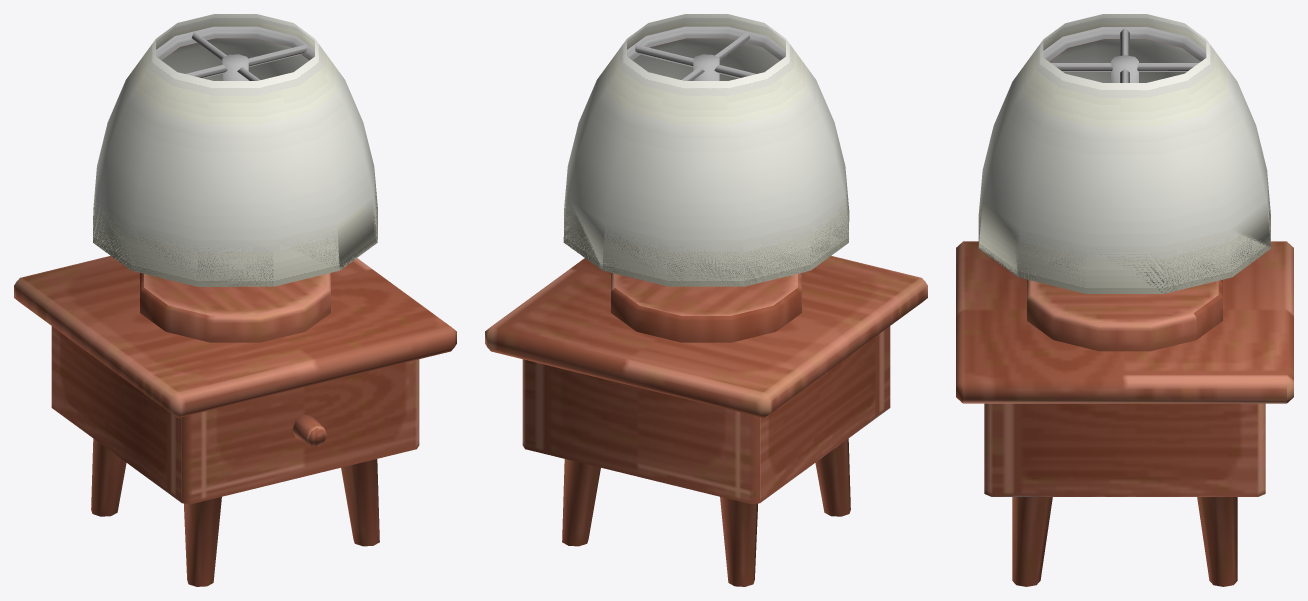
File: rmk_scd_lamp uv fix.dae
The picture shows the model from 3 angles, left to right: view 1: azimuth 30°, elevation 25°; view 2: azimuth 150°, elevation 25°; view 3: azimuth 270°, elevation 25°; orthographic projection. The views are drawn at different scales.
Visible parts, largest first — view 1: vsn_mesh_1_, vsn_mesh_0_.1; view 2: vsn_mesh_1_, vsn_mesh_0_.1; view 3: vsn_mesh_1_, vsn_mesh_0_.1.
Part boxes in pixels (x1,y1,x2,y2): vsn_mesh_1_: [14, 26, 456, 586]; vsn_mesh_0_.1: [93, 14, 377, 286]; vsn_mesh_1_: [485, 26, 927, 586]; vsn_mesh_0_.1: [563, 14, 849, 286]; vsn_mesh_1_: [956, 27, 1293, 586]; vsn_mesh_0_.1: [978, 14, 1270, 293].
Size of the model in its own units: 24 by 38.49 by 24.
3 materials, 3 textured.
